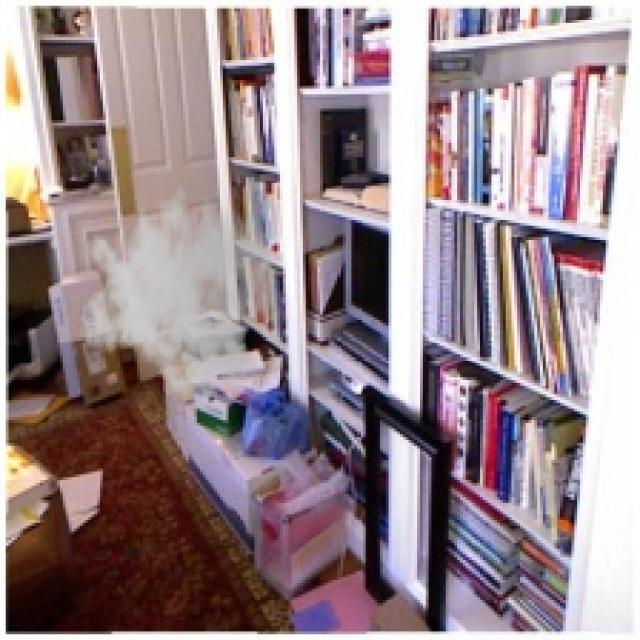smoke: (77, 168, 277, 408)
